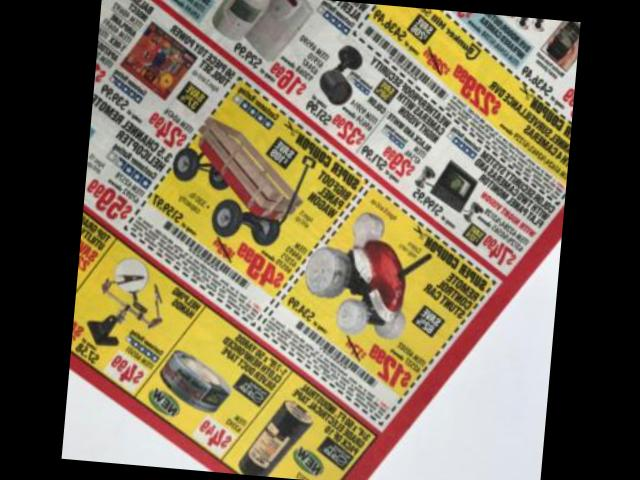cardboard paper: (68, 0, 580, 480)
